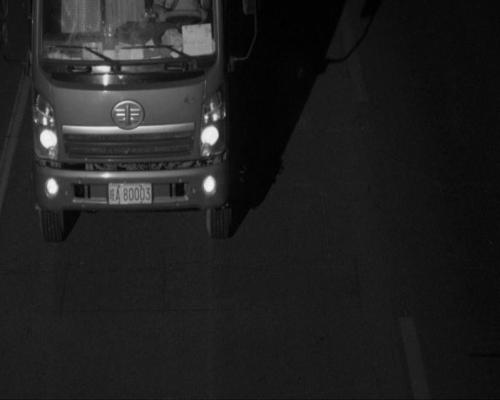Carplate: (103, 176, 154, 212)
